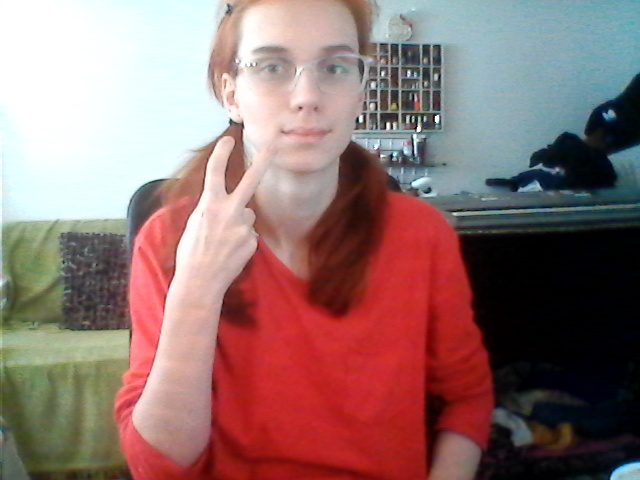usmievat: (173, 124, 345, 253)
